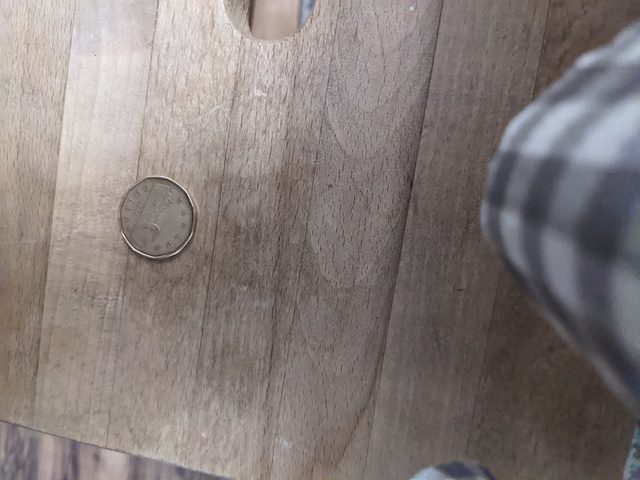loonie: (113, 172, 213, 262)
